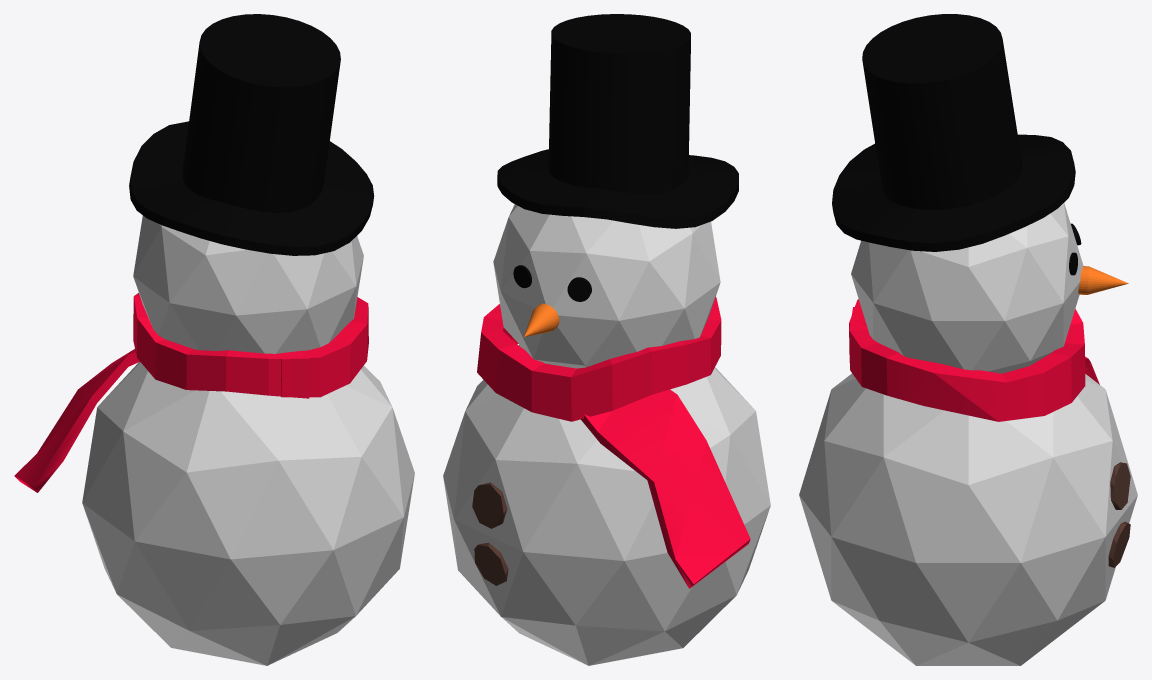
The model's file is snowman 4.fbx.
The picture shows the model from 3 angles, left to right: view 1: azimuth 30°, elevation 25°; view 2: azimuth 150°, elevation 25°; view 3: azimuth 270°, elevation 25°; orthographic projection.
Visible parts, largest first — view 1: buttons, Hat, scarf; view 2: buttons, Hat, scarf, eyes, nose; view 3: buttons, Hat, scarf, nose.
Part boxes in pixels (x1,y1,x2,y2): buttons: (82,215,414,665); Hat: (129,14,374,255); scarf: (14,293,368,492); buttons: (443,204,770,665); Hat: (497,14,738,228); scarf: (477,297,750,588); eyes: (513,265,591,301); nose: (524,303,559,336); buttons: (799,203,1137,665); Hat: (832,14,1075,251); scarf: (849,299,1099,421); nose: (1078,266,1128,294).
Bounding box in the file's own units: 317 × 569 × 291.
